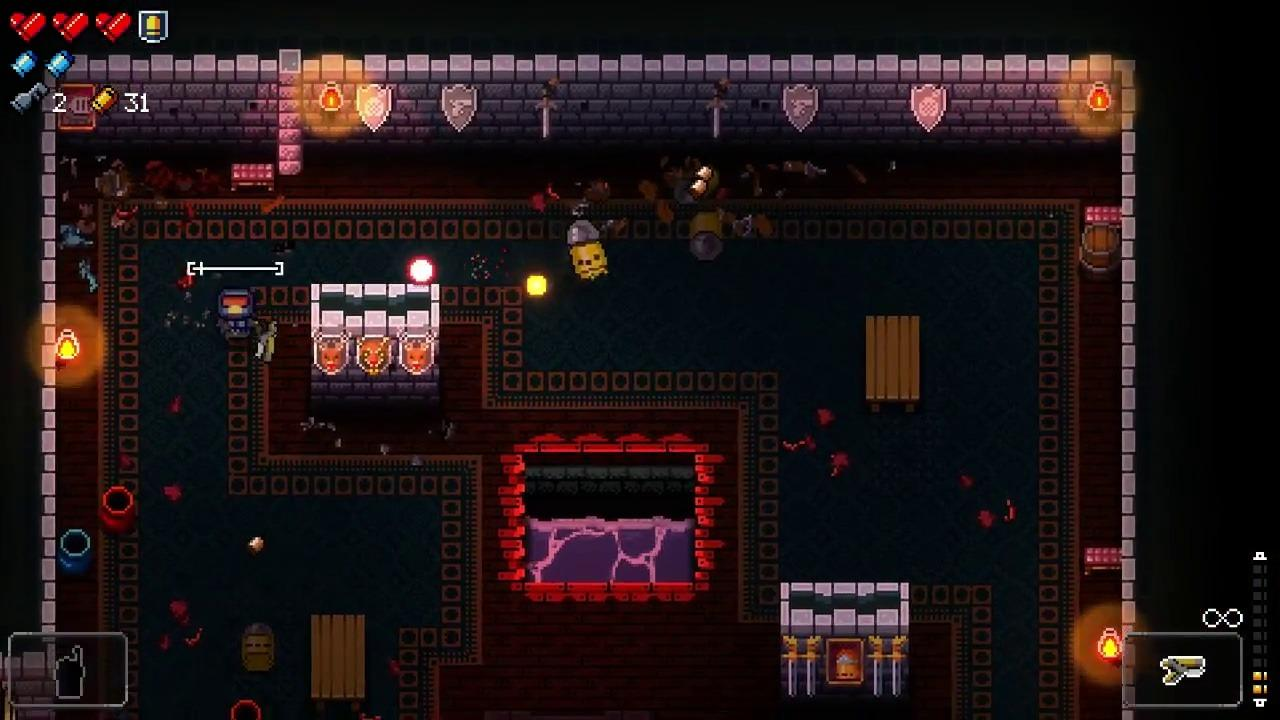bullet: (407, 255, 435, 284)
bullet_kin: (566, 219, 609, 282), (690, 211, 723, 262)
dead_bullet_kin: (241, 623, 276, 673)
player: (215, 288, 254, 342)
table: (865, 315, 919, 412), (313, 615, 364, 715)
water_pit: (497, 432, 726, 605)
